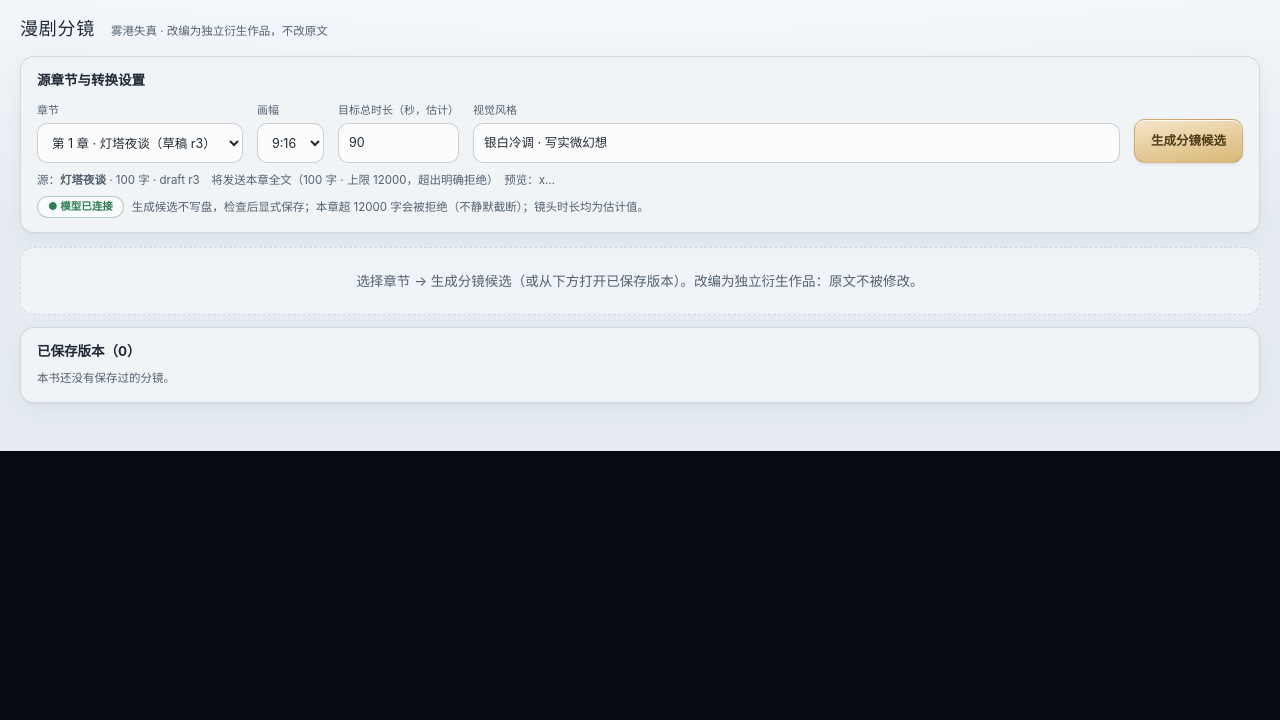
StoryboardView（T04 闭环） › U07 景别中文主显示：标题无裸英文代号，英文收进 title；景别下拉全中文
Click the button with test id "sb-generate" at (1188, 141), box 1134,119 -> 1243,163
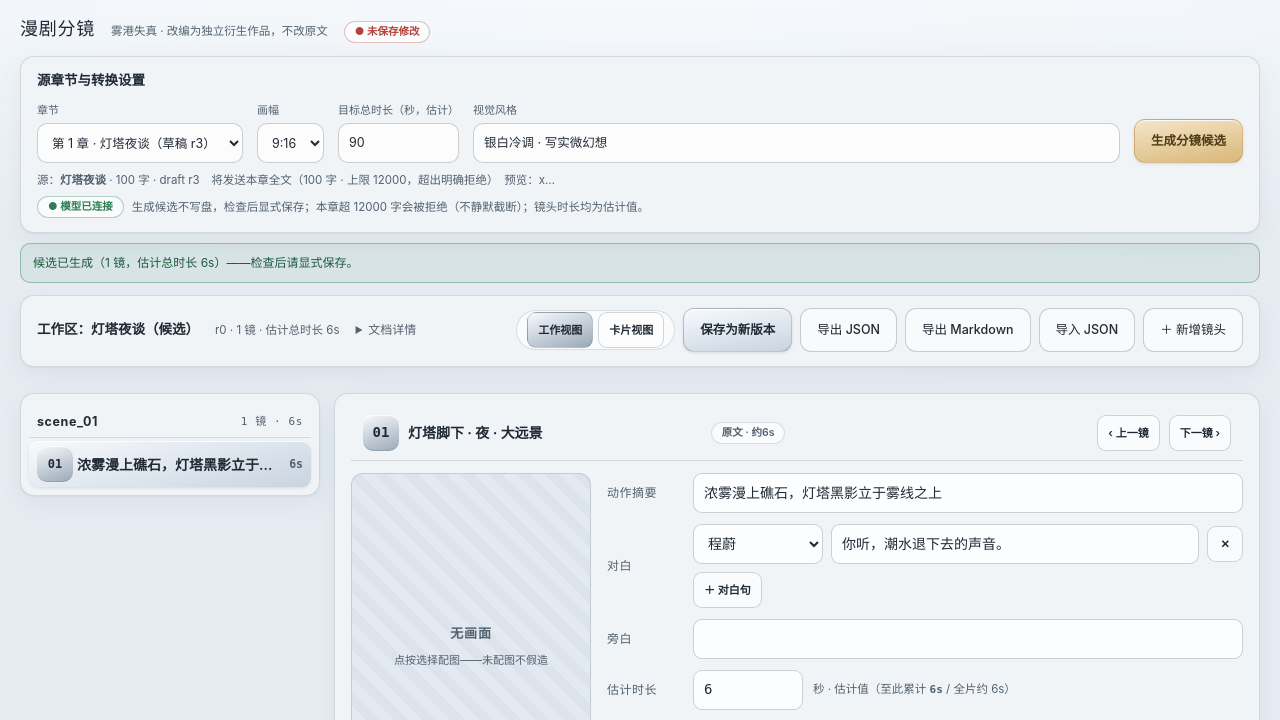
Check: the text titled "景别 wide" reads "大远景", box 501,424 -> 543,441
卡片视图标题同样中文
Click the button with test id "sb-view-cards" at (631, 330), box 598,312 -> 664,348
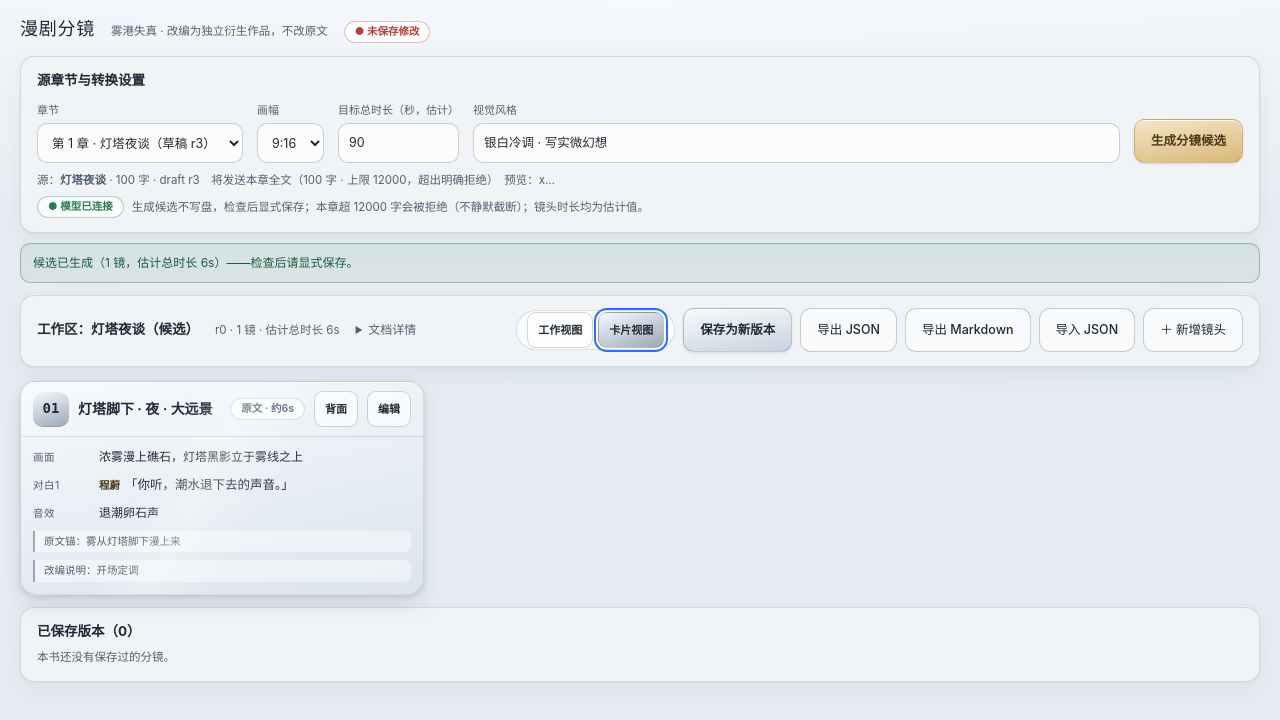
Check: the text titled "景别 wide" reads "大远景", box 171,400 -> 213,417
景别下拉（卡片编辑面板）选项全中文（value 仍是数据代号，不属界面文案）
Click the button "编辑" at (389, 409), box 367,391 -> 411,427
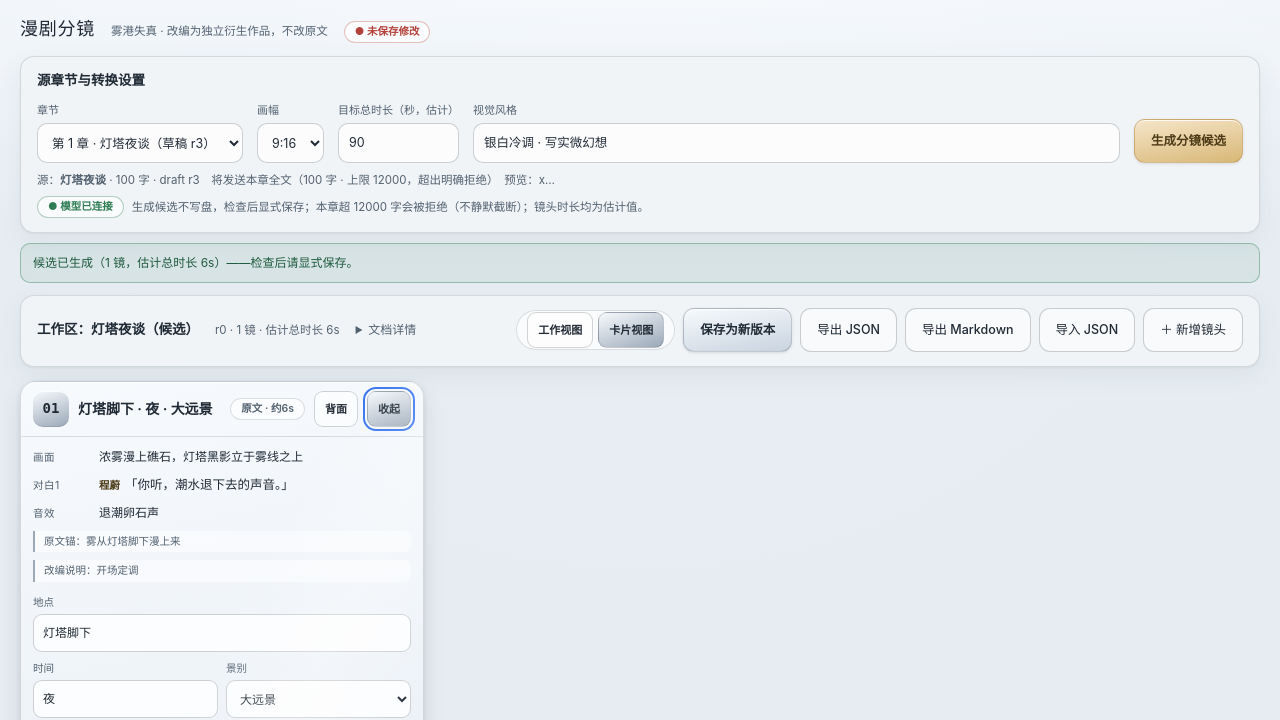
Check: the dropdown labelled "景别" is shown, box 226,680 -> 411,718
